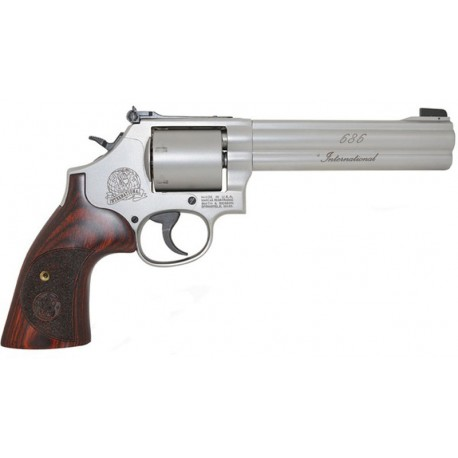Revolver: (2, 80, 455, 374)
